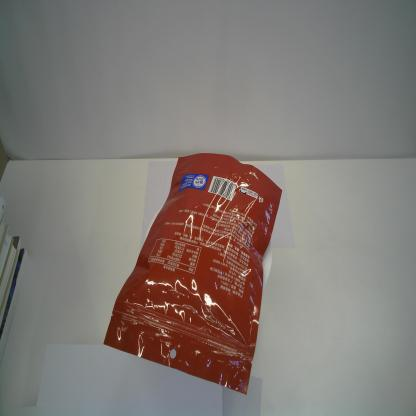Dried Food: (102, 153, 284, 397)
